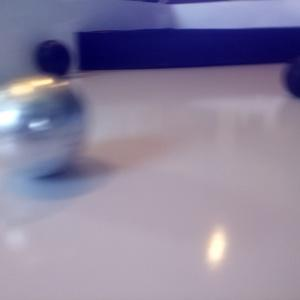zone: (76, 26, 300, 71)
